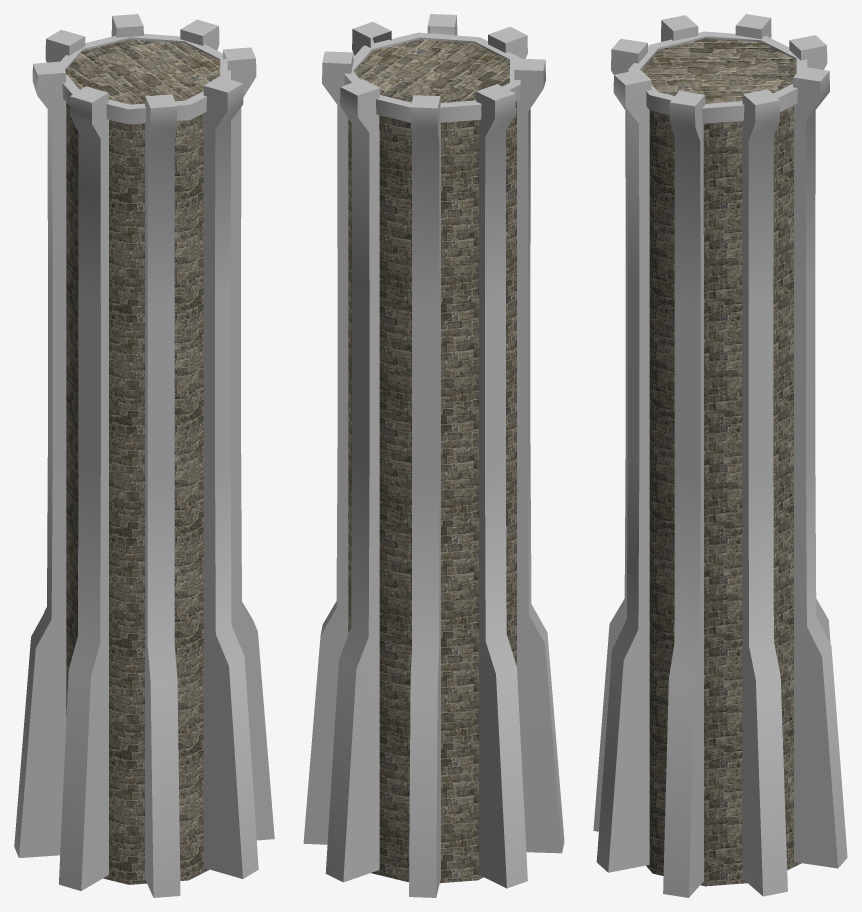
File: SM_EN_2005_qiang03.FBX
3 views of the same model, side by side, from view 1: azimuth 30°, elevation 25°; view 2: azimuth 150°, elevation 25°; view 3: azimuth 270°, elevation 25° (orthographic).
Parts seen in each view (by area): view 1: SM_EN_2005_qiang03b, SM_EN_2005_qiang03a; view 2: SM_EN_2005_qiang03b, SM_EN_2005_qiang03a; view 3: SM_EN_2005_qiang03b, SM_EN_2005_qiang03a.
Part boxes in pixels (x1,y1,x2,y2): SM_EN_2005_qiang03b: (14, 14, 274, 897); SM_EN_2005_qiang03a: (65, 39, 220, 884); SM_EN_2005_qiang03b: (303, 14, 564, 897); SM_EN_2005_qiang03a: (348, 39, 516, 883); SM_EN_2005_qiang03b: (593, 14, 847, 897); SM_EN_2005_qiang03a: (641, 38, 801, 886).
Size of the model in its own units: 344 by 1178 by 344.
